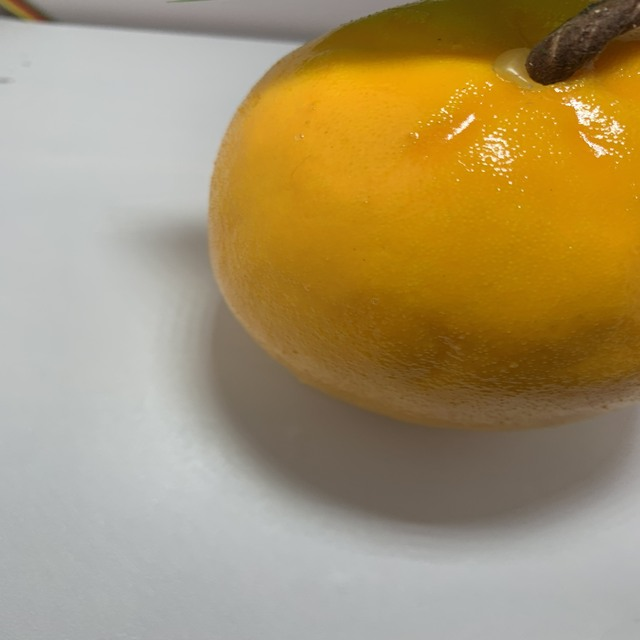Cam vang: (198, 2, 640, 426)
